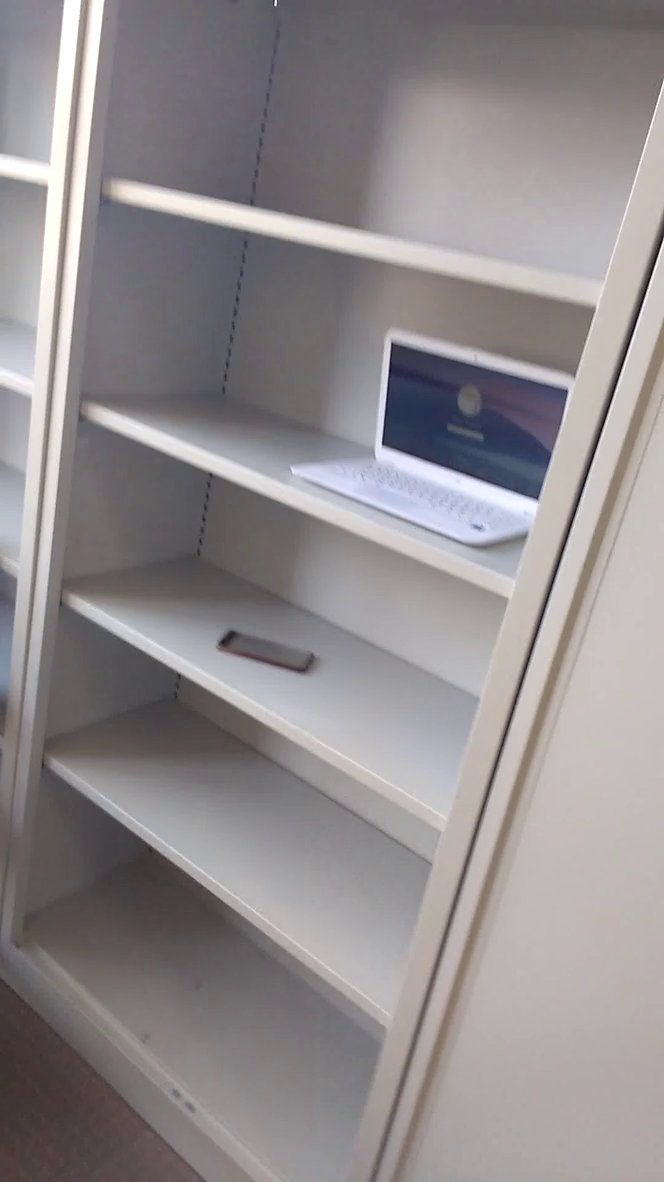laptop: (282, 313, 597, 579)
phone: (213, 620, 325, 683)
